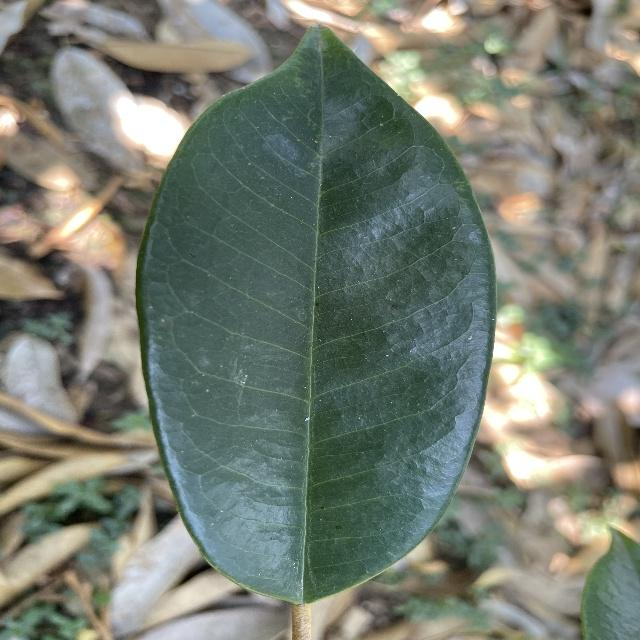No Disease: (129, 11, 505, 615)
